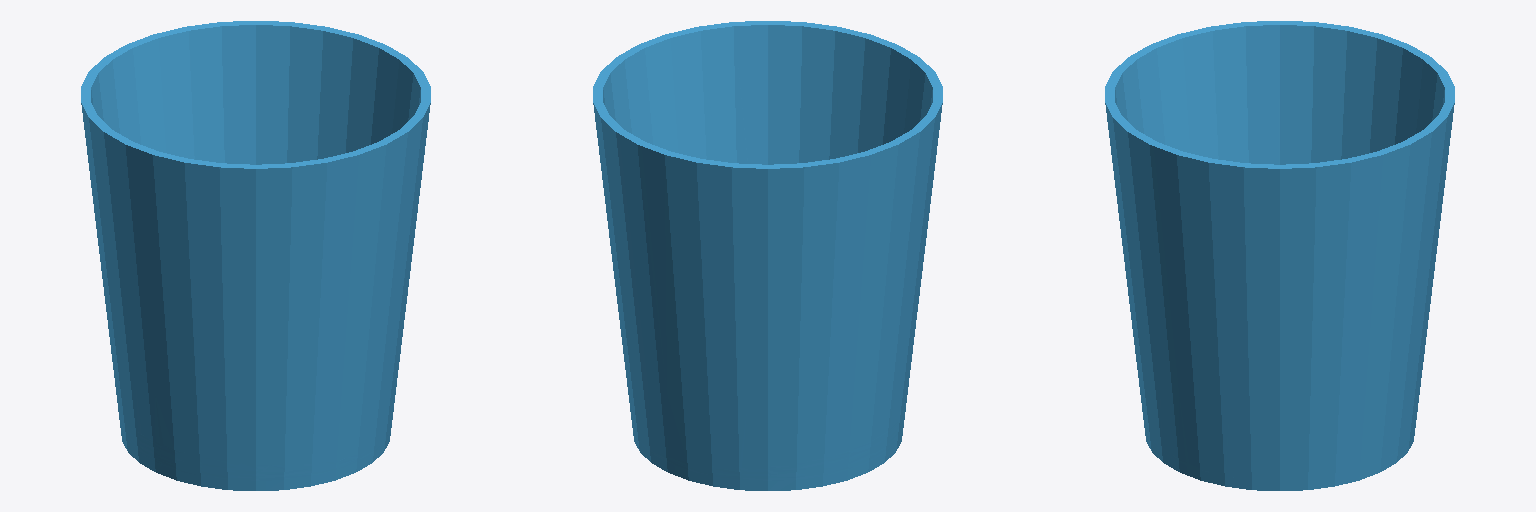
URDF robot description (trash):
<?xml version="0.0" ?>
<robot name="trash">
  <link name="baseLink">
    <inertial>
      <origin rpy="0 0 0" xyz="0 0 0"/>
       <mass value="0.00000001"/>
       <inertia ixx="1" ixy="0" ixz="0" iyy="1" iyz="0" izz="1"/>
    </inertial>
  </link>

  <joint name="trash_fixed_joint" type="fixed">
    <parent link="baseLink"/>
    <child link="trash"/>
    <origin rpy="0 0 0" xyz="-0.045 -0.01 0"/>
  </joint>

  <link name="trash">
    <contact>
      <!-- <rolling_friction value="0.03"/> -->
      <!-- <spinning_friction value="0.03"/> -->
      <!-- <lateral_friction value="1.5"/> -->
      <!-- <stiffness value="300"/> -->
      <!-- <damping value="50"/> -->
    </contact>

    <inertial>
      <origin rpy="0 0 0" xyz="0 0 0"/>
       <mass value="0.2"/>
       <!-- <inertia ixx="0.008852" ixy="0" ixz="0" iyy="0.008852" iyz="0" izz="0.01429"/> -->
       <inertia ixx="1" ixy="0" ixz="0" iyy="1" iyz="0" izz="1"/>
    </inertial>

    <visual>
      <origin rpy="0 0 0" xyz="0 0 0"/>
      <geometry>
        <mesh filename="trash.obj" scale="0.01 0.01 0.01"/>
      </geometry>
    </visual>

    <collision>
      <origin rpy="0 0 0" xyz="0 0 0"/>
      <geometry>
         <mesh filename="trash_vhacd.obj" scale="0.01 0.01 0.01"/>
      </geometry>
    </collision>
  </link>
</robot>

--- What the picture shows (computed from the rendered views, not written in the file) ---
Views: 3 orthographic renders of the robot side by side, from view 1: azimuth 30°, elevation 25°; view 2: azimuth 150°, elevation 25°; view 3: azimuth 270°, elevation 25°.
Robot: trash — 2 links, 1 joints (1 fixed); root link baseLink; default pose: every joint at zero.
Visible links, largest first — view 1: trash; view 2: trash; view 3: trash.
Link boxes in pixels (bbox=[...]): trash: bbox=[81, 21, 430, 490]; trash: bbox=[593, 21, 942, 490]; trash: bbox=[1105, 21, 1454, 490].
Size in the robot's own frame: 0.3 by 0.2984 by 0.32 metres.
1 mesh visuals loaded from 1 distinct referenced files (1 OBJ).